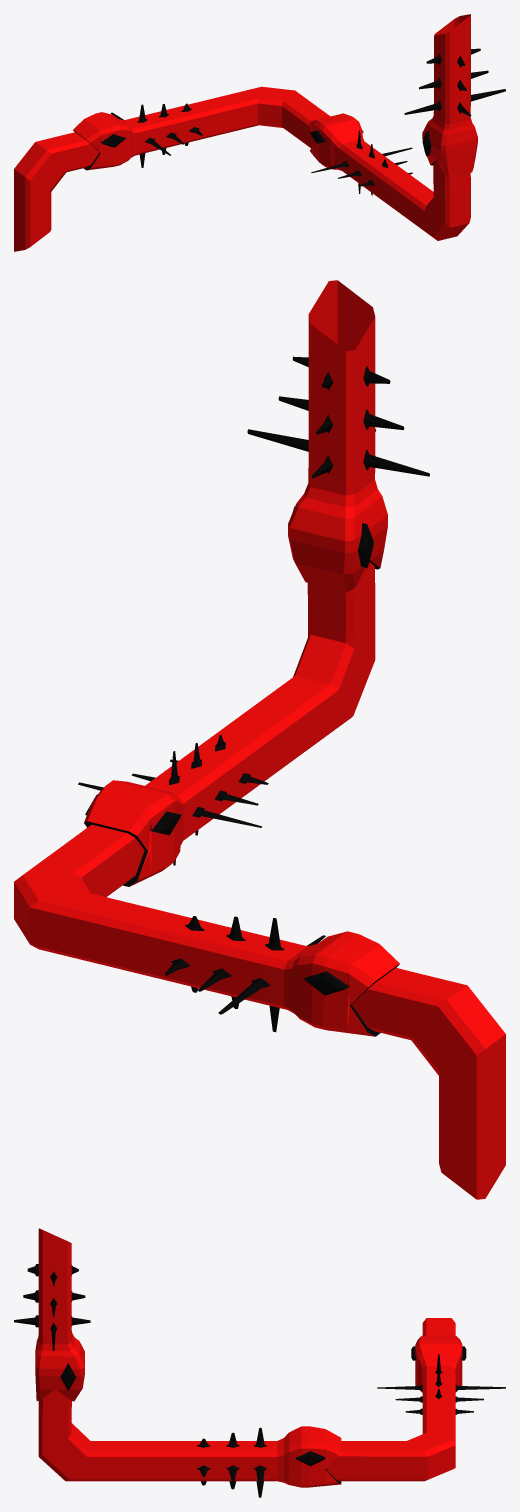
The model's file is triple_ouroboros_penrose_triangle.glb.
3 views of the same model, one above another, from view 1: azimuth 30°, elevation 25°; view 2: azimuth 150°, elevation 25°; view 3: azimuth 270°, elevation 25° (orthographic). The views are drawn at different scales.
Parts seen in each view (by area): view 1: Penrose_0, Cube.002_3, Cube_1, Cube.001_2; view 2: Penrose_0, Cube.002_3, Cube_1, Cube.001_2; view 3: Penrose_0, Cube.002_3, Cube.001_2, Cube_1.
Part boxes in pixels (box(x1,y1,x2,y2)): Penrose_0: box(14, 14, 477, 251); Cube.002_3: box(404, 48, 505, 155); Cube_1: box(101, 103, 202, 167); Cube.001_2: box(310, 130, 412, 195); Penrose_0: box(14, 280, 505, 1199); Cube.002_3: box(247, 356, 429, 568); Cube_1: box(164, 916, 349, 1032); Cube.001_2: box(78, 735, 268, 865); Penrose_0: box(35, 1228, 462, 1487); Cube.002_3: box(14, 1264, 90, 1390); Cube.001_2: box(197, 1427, 325, 1497); Cube_1: box(377, 1346, 505, 1414).
Bounding box in the file's own units: 0.3329 × 0.3133 × 0.4118.
